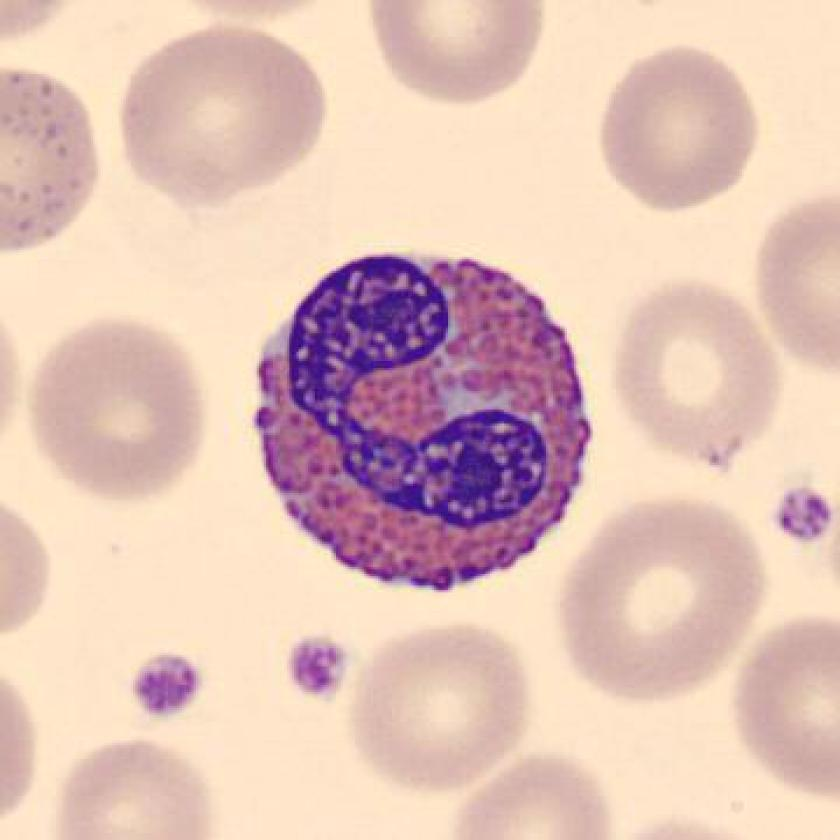eosinophil: (237, 233, 608, 608)
